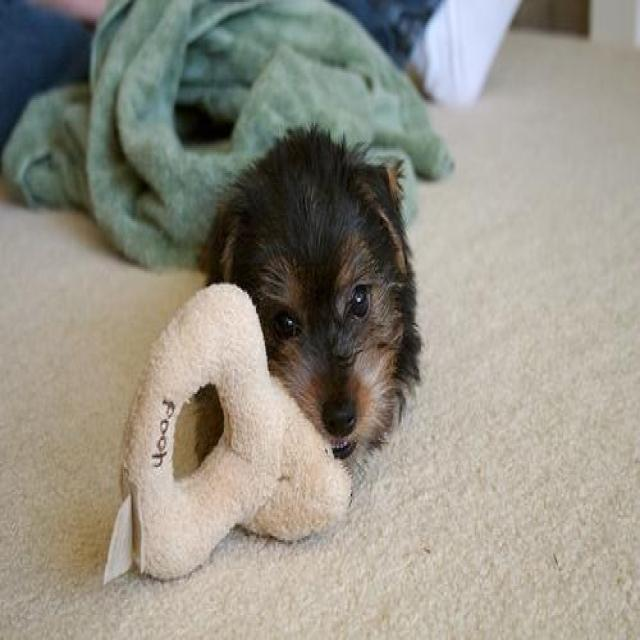dogs: (168, 123, 425, 477)
